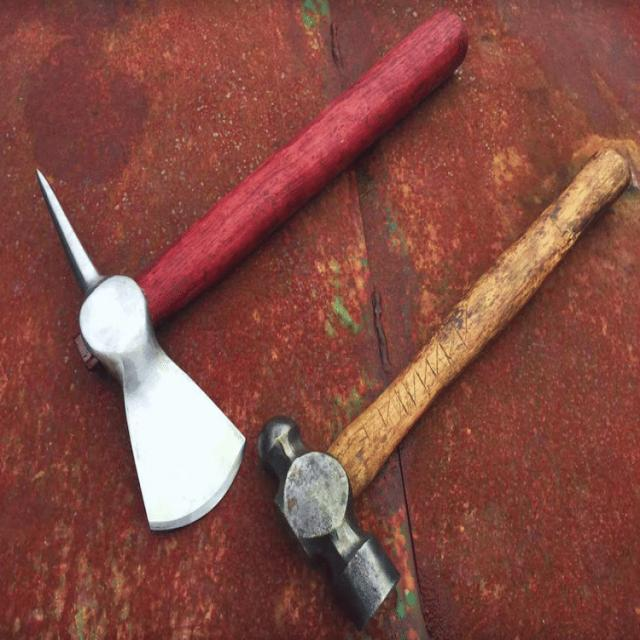hammer: (250, 141, 637, 634)
